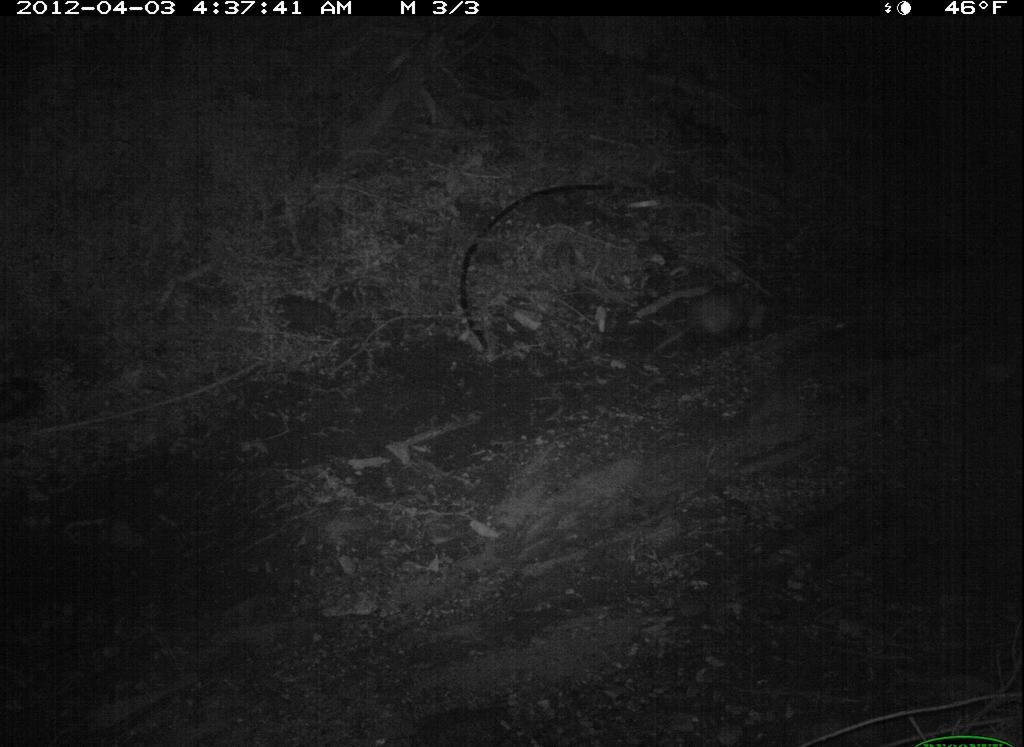opossum: (639, 282, 777, 364)
